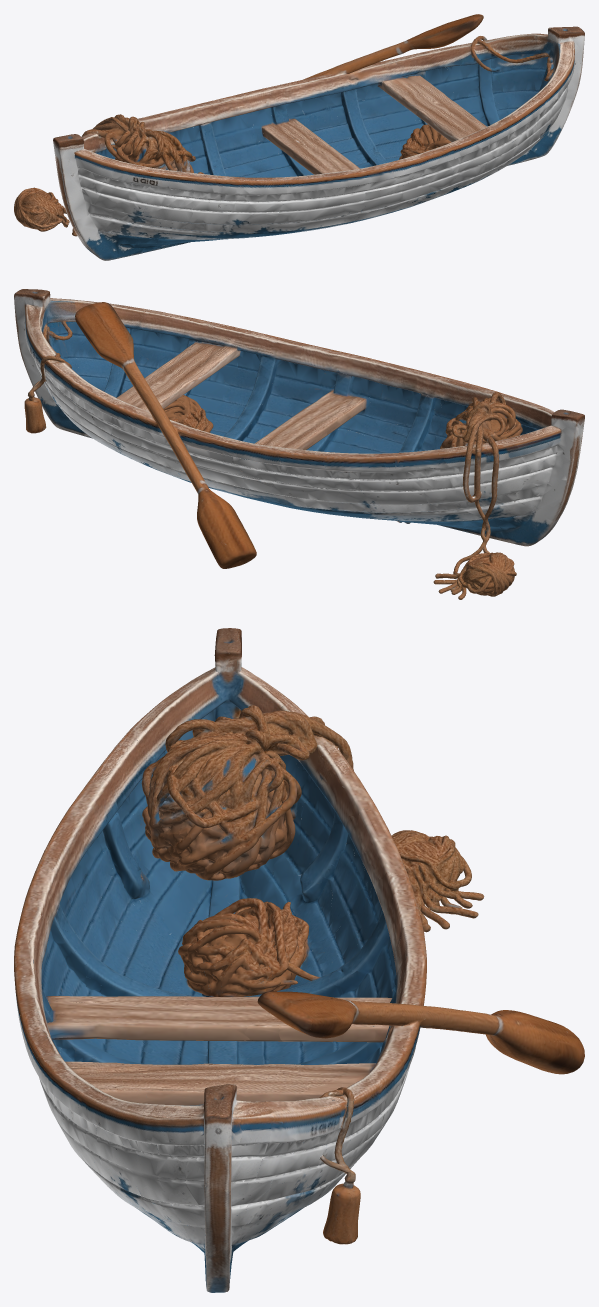
The model's file is barca_pesca_lod0.glb.
3 renders of one model, top to bottom at view 1: azimuth 30°, elevation 25°; view 2: azimuth 150°, elevation 25°; view 3: azimuth 270°, elevation 25°, orthographic. The views are drawn at different scales.
Parts seen in each view (by area): view 1: Mesh_0; view 2: Mesh_0; view 3: Mesh_0.
Boxes of the visible parts, <box> form: Mesh_0: <box>14,14,584,260</box>; Mesh_0: <box>14,289,584,599</box>; Mesh_0: <box>14,628,584,1292</box>.
Size of the model in its own units: 2.77 by 0.7006 by 1.44.
Materials: 1 (1 with a texture image).
